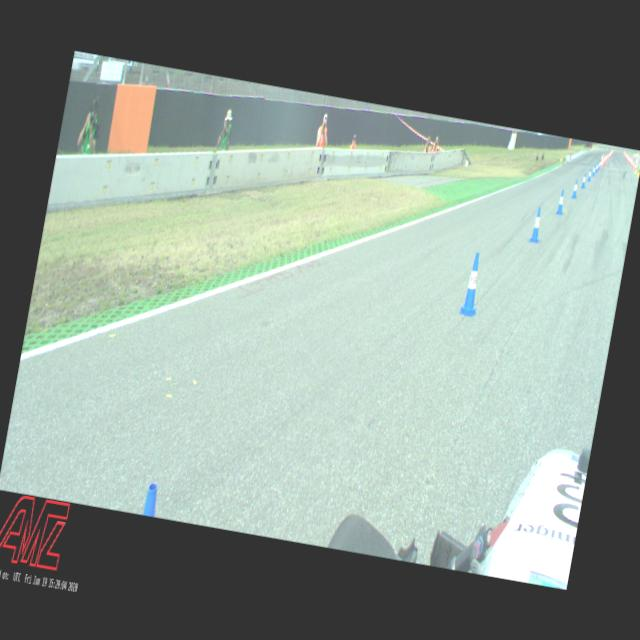blue_cone: (458, 251, 486, 317), (529, 206, 544, 243), (556, 188, 566, 214), (571, 178, 579, 198), (580, 172, 586, 188), (591, 164, 596, 176), (587, 168, 592, 180), (594, 162, 598, 172)
orange_cone: (632, 160, 635, 169)
yellow_cone: (636, 166, 640, 177), (634, 164, 637, 173), (560, 154, 562, 162)
